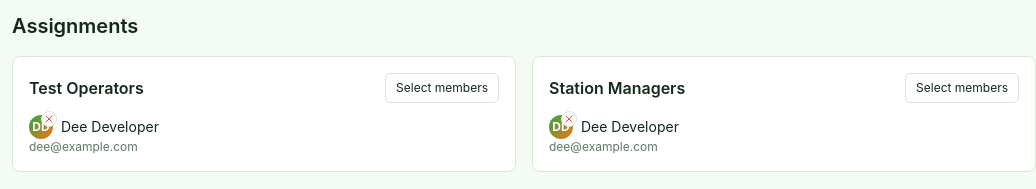
Test case: A person in several groups › removes the person from one group and keeps them in the other
The width and height of the screenshot is (1036, 189).
Click the button named "Remove Dee Developer from Station Managers" at coordinates (569, 119), box [561,111,577,127]
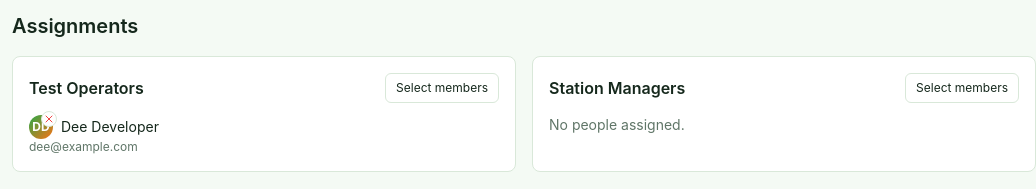
Expected: the button named "Remove Dee Developer from Test Operators" is shown, [41,111,57,127]
Expected: the text "No people assigned." is shown, [549,116,685,133]
